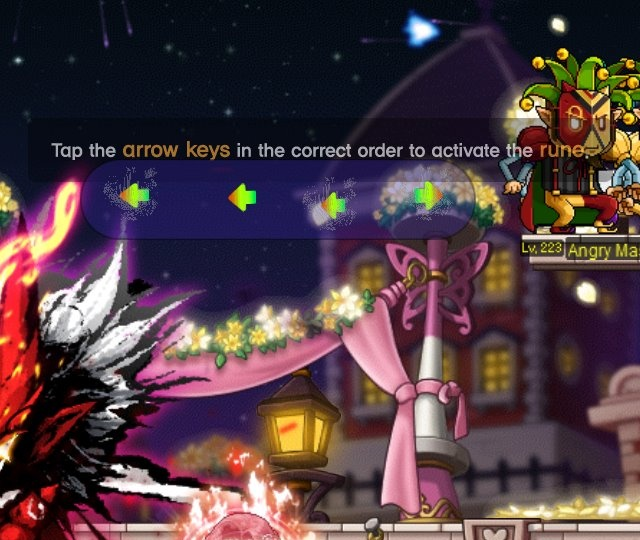rune_box: (68, 148, 490, 248)
